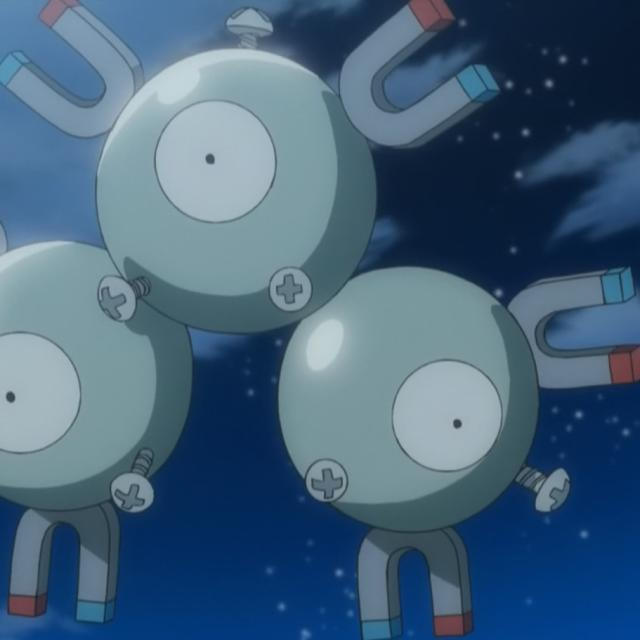Magneton: (0, 0, 556, 589)
